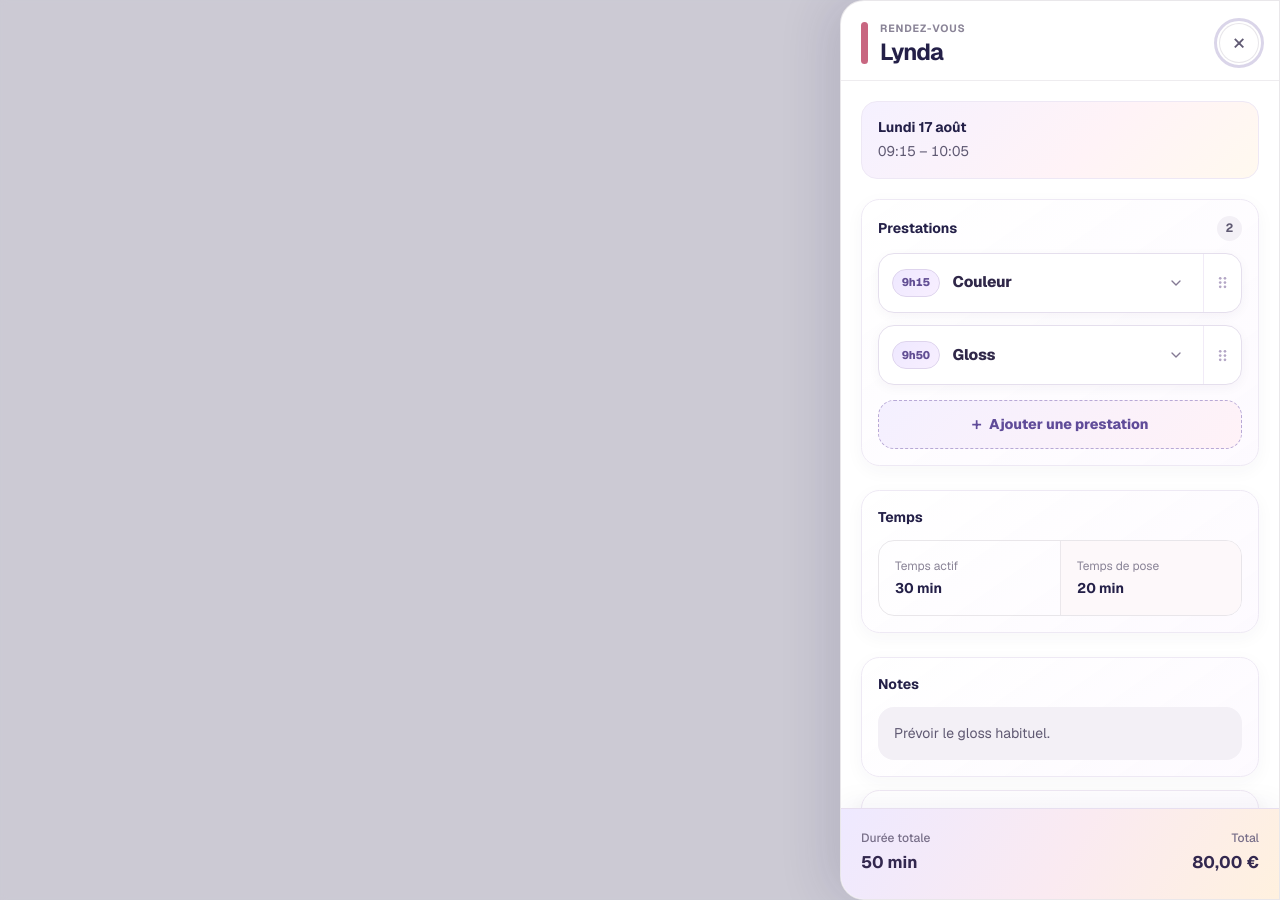
it: AppointmentDetailsPanel › unfolds and folds a service
Click the button with aria-label "Afficher les détails de Couleur" at point(916, 283), box x1=879 y1=254 x2=1203 y2=312
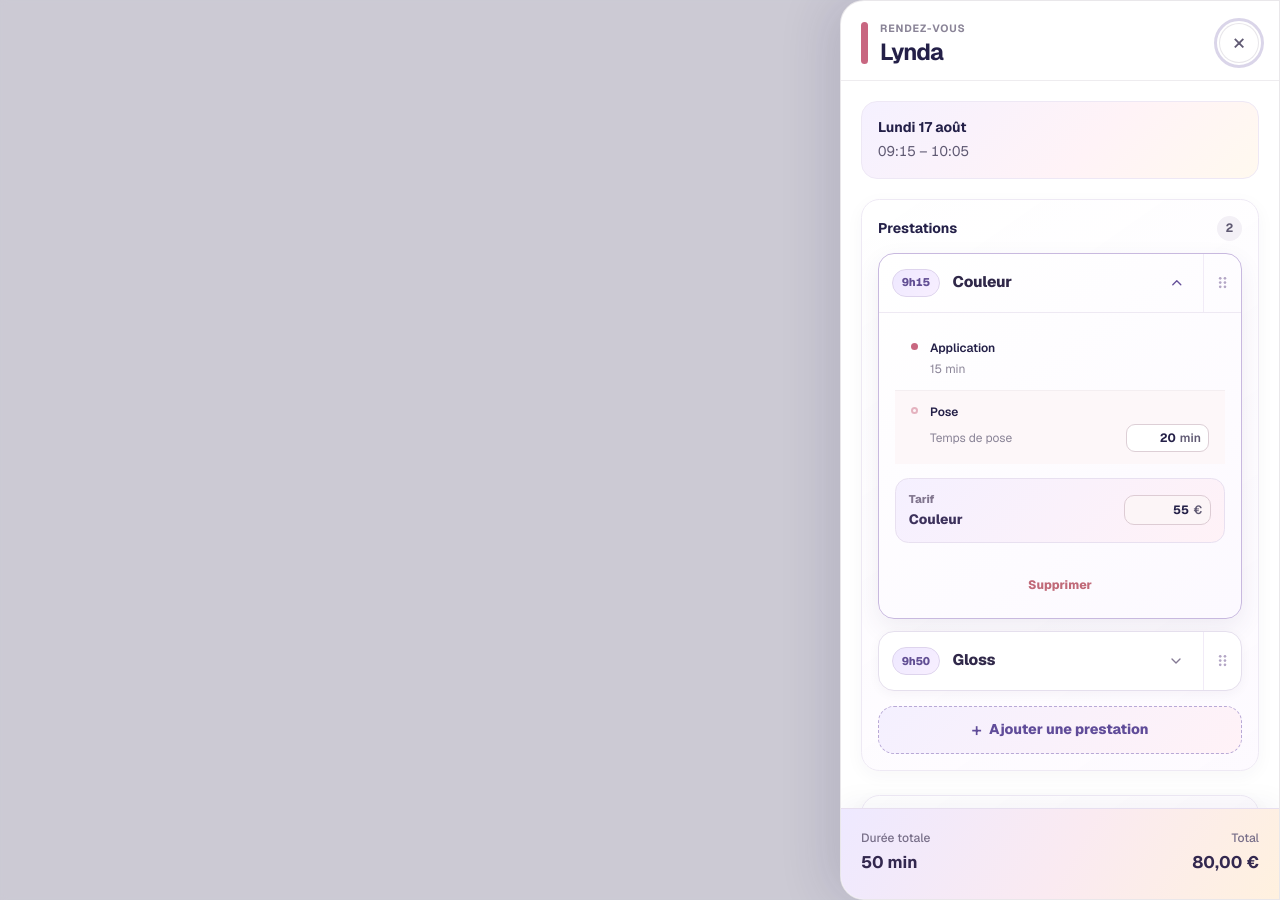
expect the button with aria-label "Masquer les détails de Couleur" is expanded: met
expect the text "Application" is shown: met, box x1=930 y1=340 x2=995 y2=356
expect the text "Pose" is shown: met, box x1=930 y1=404 x2=958 y2=420
Click the button with aria-label "Masquer les détails de Couleur" at point(916, 283), box x1=879 y1=254 x2=1203 y2=312
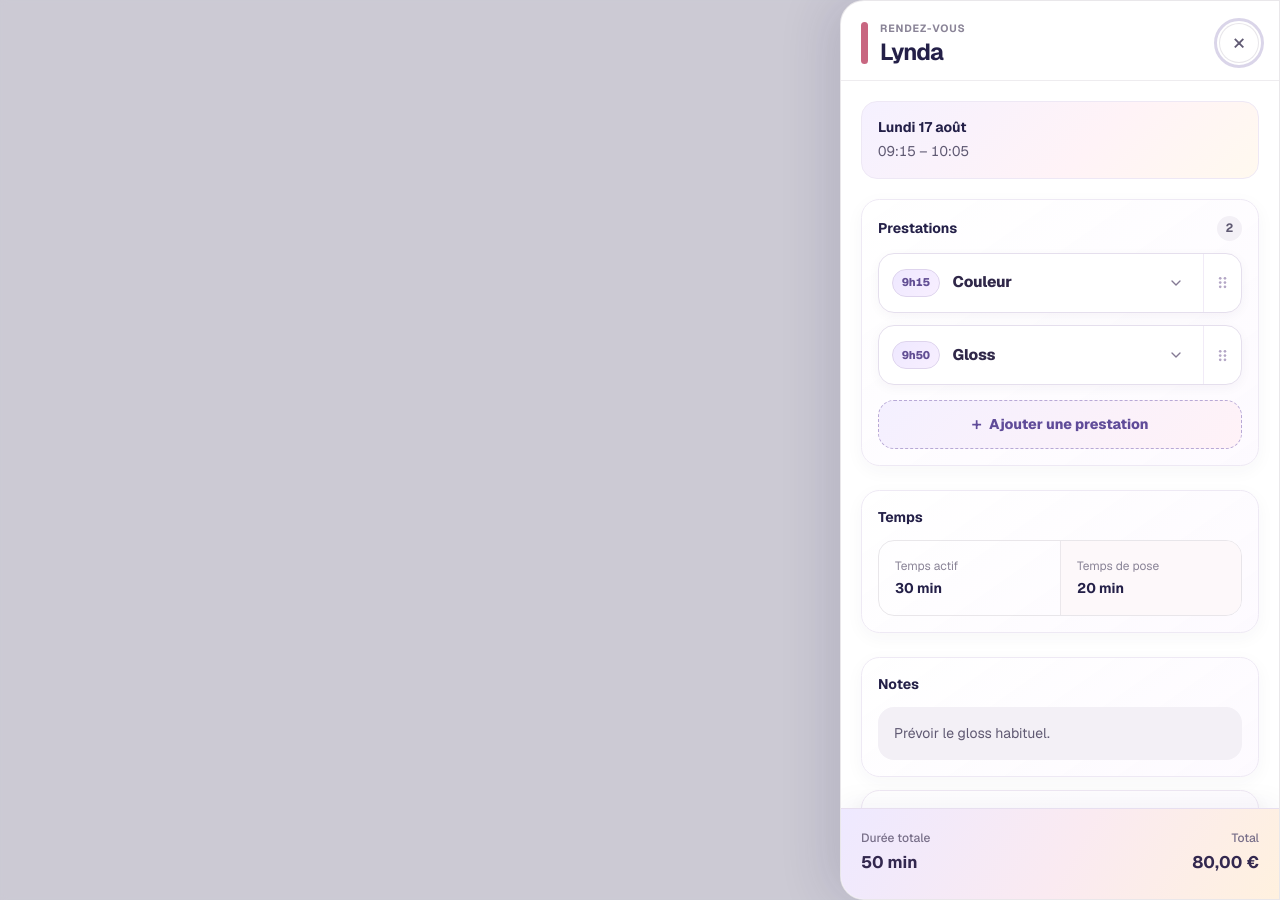
expect the text "Application" is gone: met
